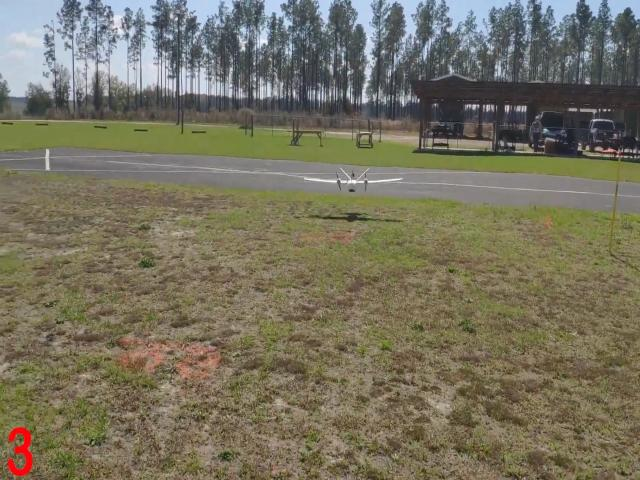plane: (305, 167, 404, 191)
